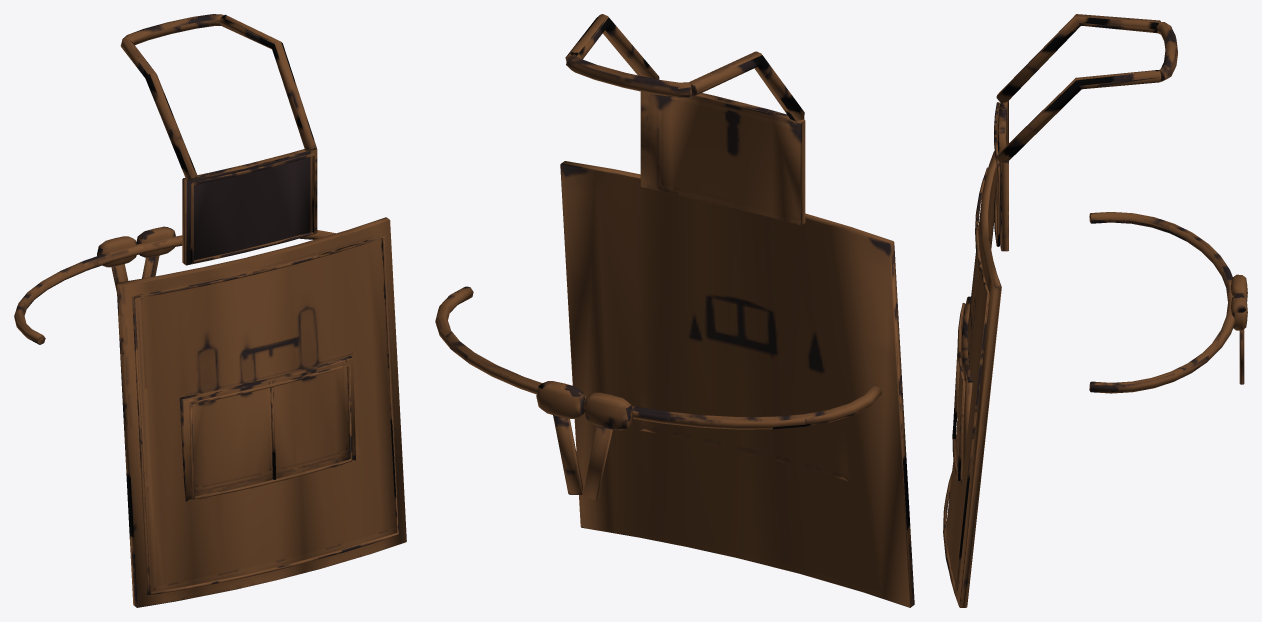
Rendered from Tano_Delantal.fbx.
3 renders of one model, left to right at view 1: azimuth 30°, elevation 25°; view 2: azimuth 150°, elevation 25°; view 3: azimuth 270°, elevation 25°, orthographic. The views are drawn at different scales.
Parts seen in each view (by area): view 1: Tano_Delantal; view 2: Tano_Delantal; view 3: Tano_Delantal.
Boxes of the visible parts, x1=… form: Tano_Delantal: x1=14, y1=14, x2=406, y2=607; Tano_Delantal: x1=435, y1=14, x2=914, y2=607; Tano_Delantal: x1=943, y1=14, x2=1247, y2=607.
Size of the model in its own units: 2.56 by 3.36 by 1.88.
